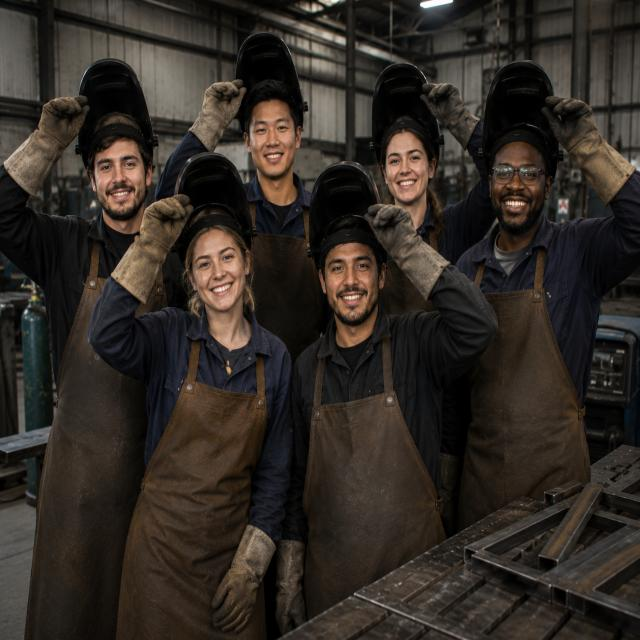helmet_lifted: (303, 149, 393, 336), (167, 147, 257, 316), (481, 61, 561, 243), (226, 30, 315, 188), (72, 53, 158, 216), (372, 59, 443, 237)
